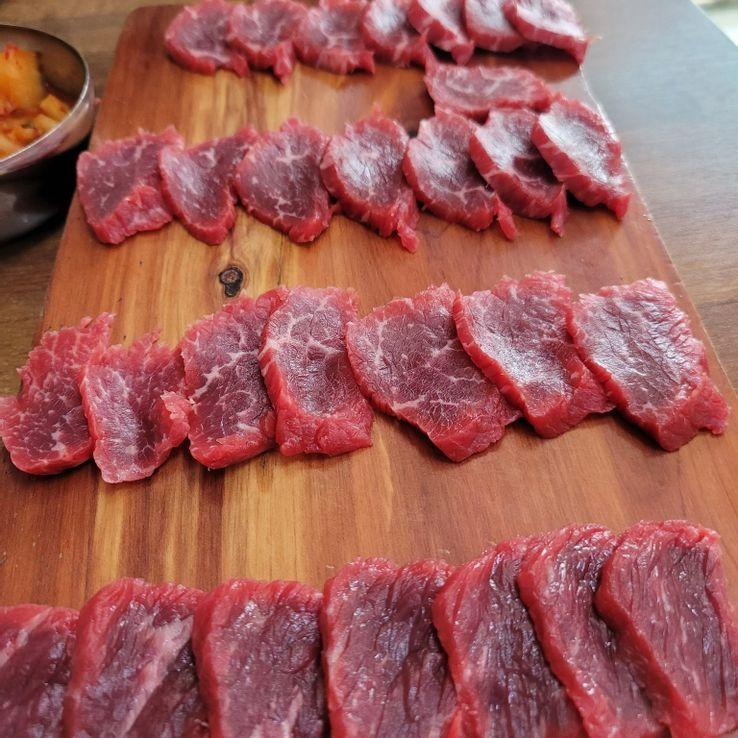beef: (319, 321, 541, 529), (542, 304, 738, 519), (106, 339, 312, 526), (113, 596, 366, 738), (370, 602, 608, 738), (612, 604, 738, 738)
